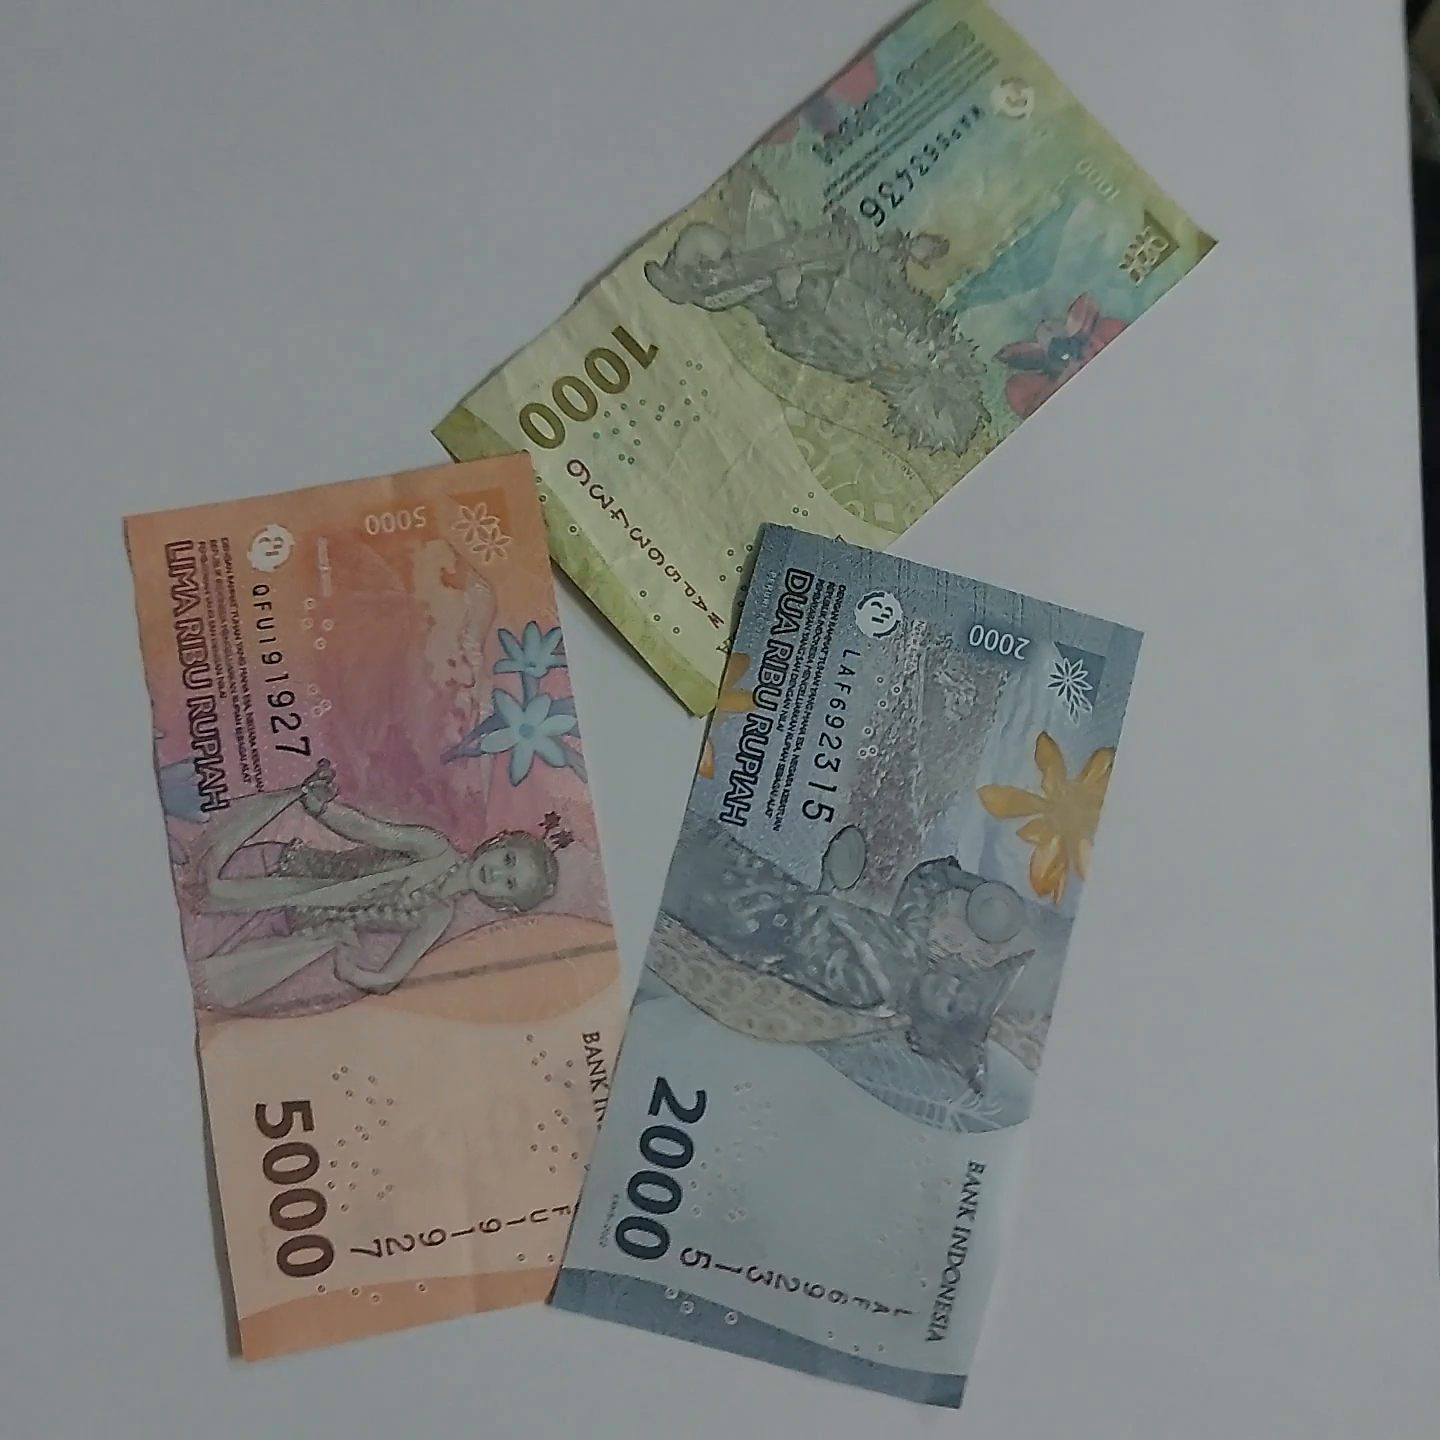1k: (382, 0, 1338, 721)
2k: (510, 514, 1163, 1432)
5k: (71, 440, 638, 1377)
